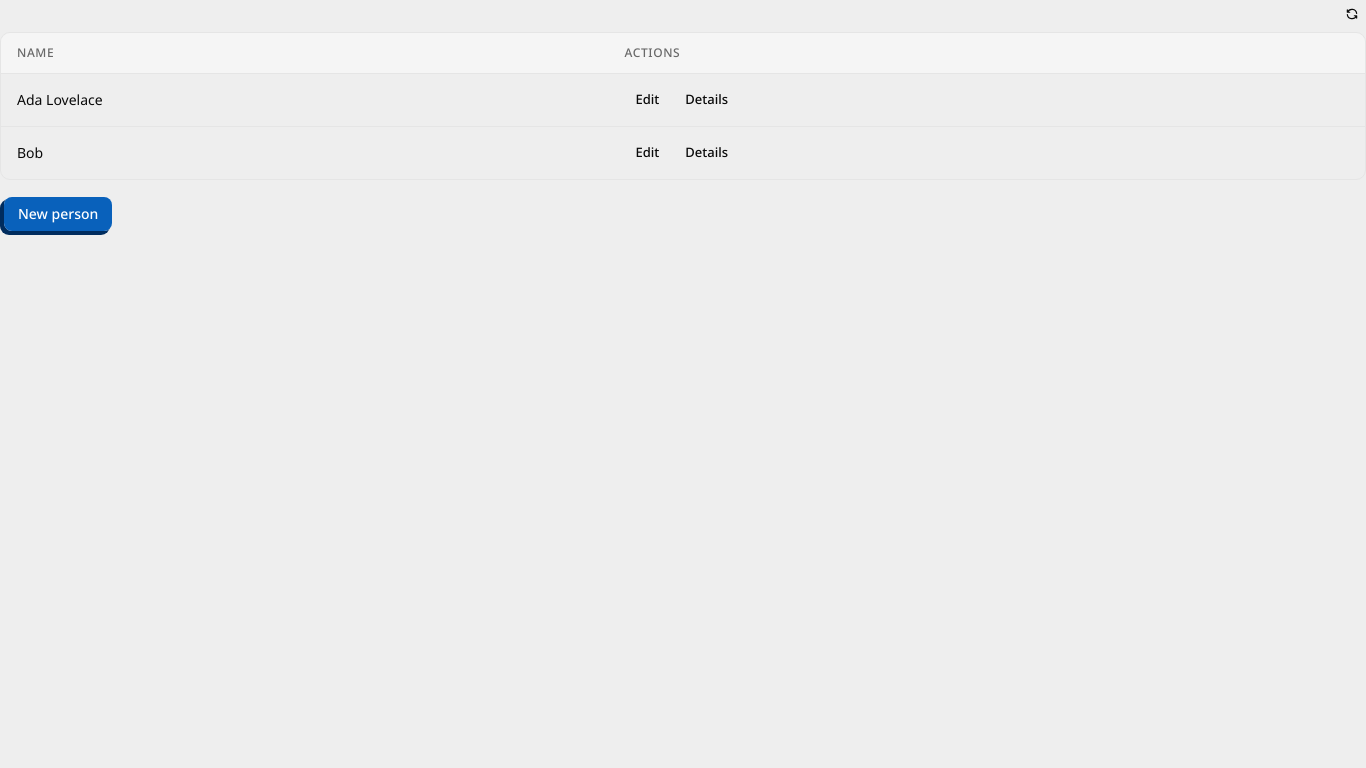
Test case: BlockRenderer — WC-block-modal-drawer overlays › a row `open` action opens the modal and seeds the form via defaultFrom
Step 1. Click the button "Edit" in the row of "Ada Lovelace" → (647, 100), box [624,86,670,114]
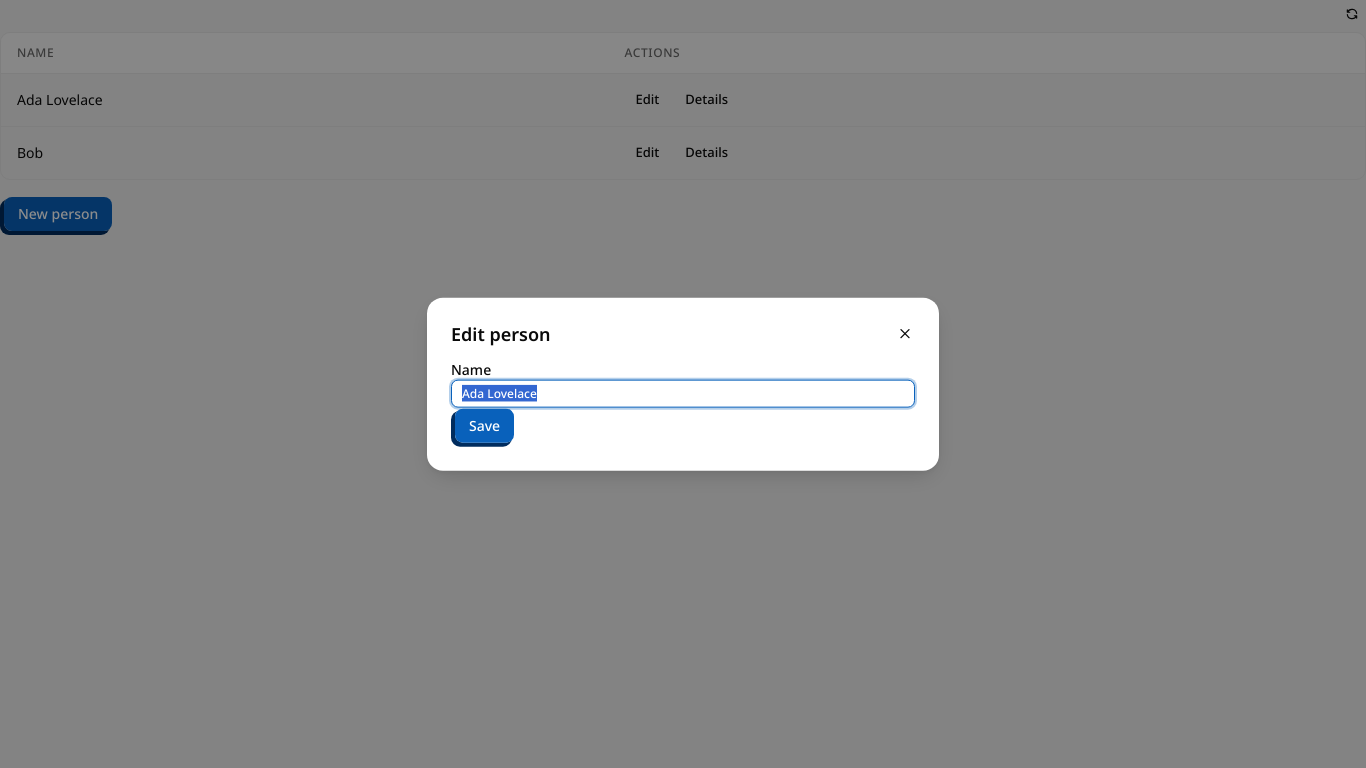
Check: the heading "Edit person" is shown, box [451,322,550,346]
Check: the field showing "Ada Lovelace" is shown, box [451,379,915,407]
